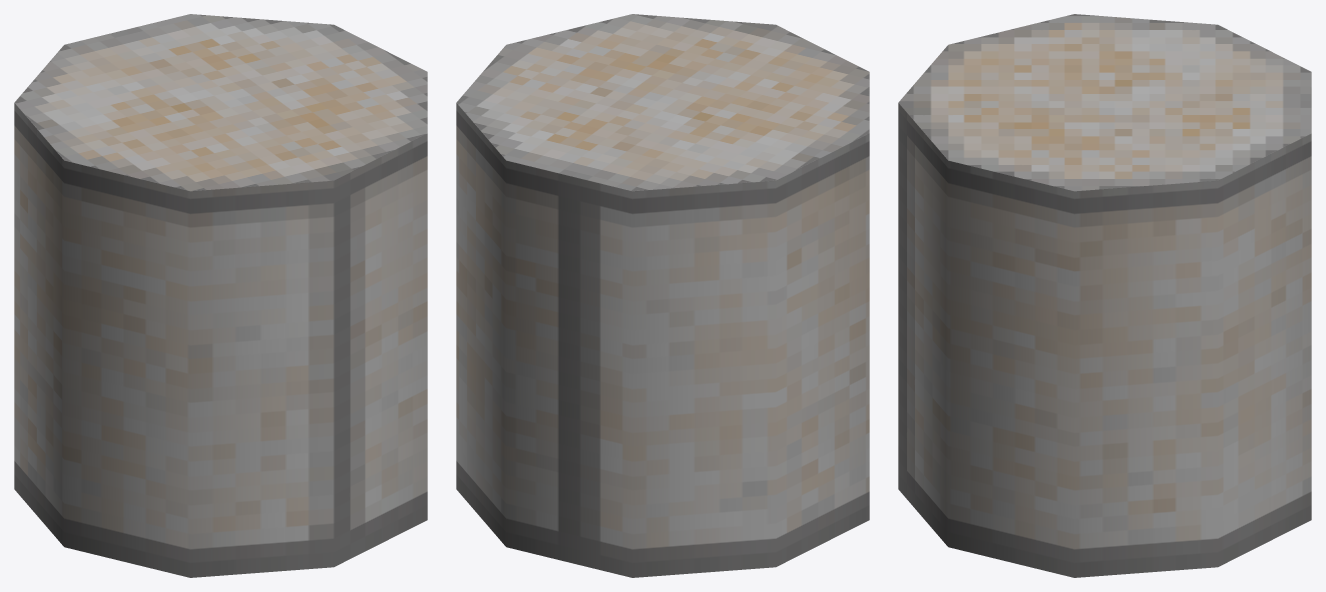
Rendered from Connector.fbx.
3 views of the same model, side by side, from view 1: azimuth 30°, elevation 25°; view 2: azimuth 150°, elevation 25°; view 3: azimuth 270°, elevation 25° (orthographic).
Parts seen in each view (by area): view 1: Connector; view 2: Connector; view 3: Connector.
Part boxes in pixels (left/top/right/bottom): Connector: left=14, top=14, right=427, bottom=577; Connector: left=456, top=14, right=869, bottom=577; Connector: left=898, top=14, right=1311, bottom=577.
Size of the model in its own units: 7.74 by 7.86 by 7.98.
